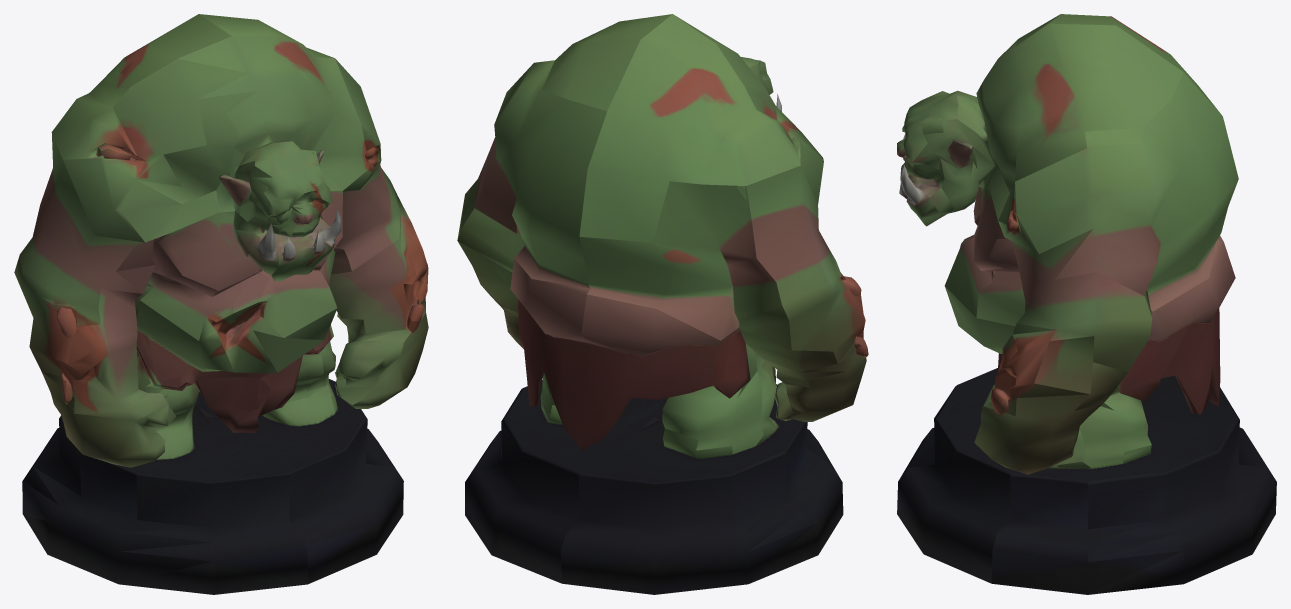
Rendered from Meshy_AI_Verdant_Ogre_0726160237_texture.glb.
3 views of the same model, side by side, from view 1: azimuth 30°, elevation 25°; view 2: azimuth 150°, elevation 25°; view 3: azimuth 270°, elevation 25° (orthographic).
Parts seen in each view (by area): view 1: mesh_node; view 2: mesh_node; view 3: mesh_node.
Part boxes in pixels (x1,y1,x2,y2): mesh_node: (14,14,428,594); mesh_node: (457,14,868,594); mesh_node: (897,14,1276,594).
Bounding box in the file's own units: 0.7969 × 1 × 0.7012.
Materials: 1 (1 with a texture image).
